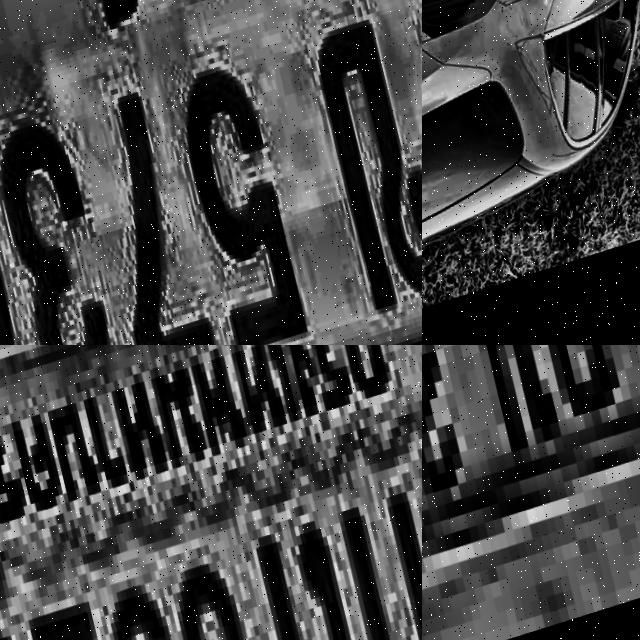license-plate: (0, 0, 422, 345), (0, 345, 422, 640), (422, 345, 640, 640)
